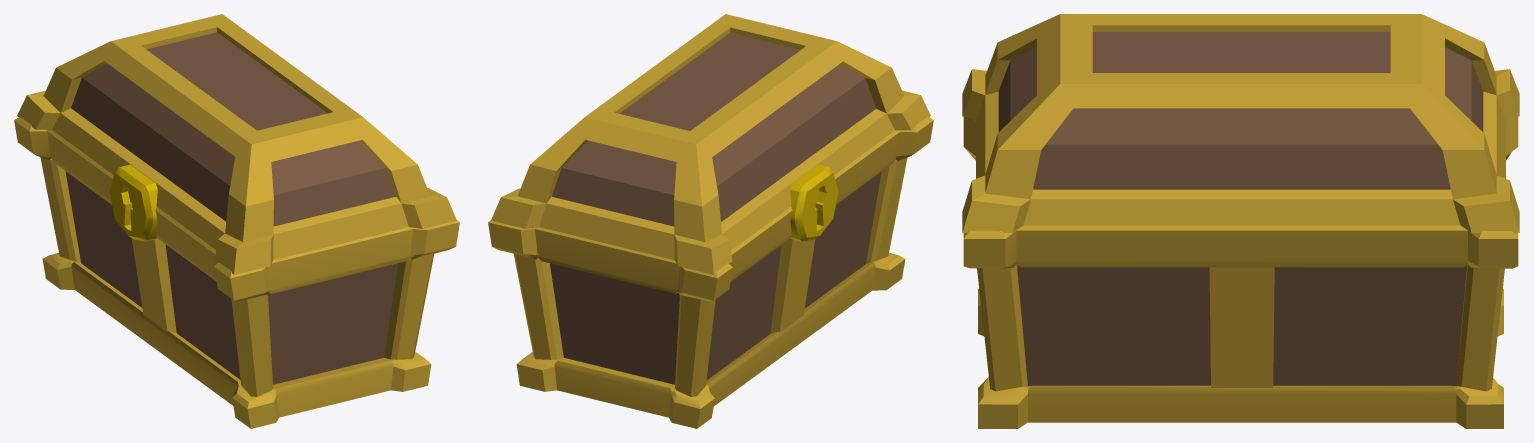
The model's file is ClosedChest.fbx.
3 renders of one model, left to right at view 1: azimuth 30°, elevation 25°; view 2: azimuth 150°, elevation 25°; view 3: azimuth 270°, elevation 25°, orthographic. The views are drawn at different scales.
Visible parts, largest first — view 1: Frame, LidFrame, LidSides, Sides1, Lock; view 2: Frame, LidFrame, LidSides, Sides1, Lock; view 3: LidFrame, Frame, LidSides, Sides1.
Part boxes in pixels (box(x1,y1,x2,y2)): Frame: box(14, 117, 459, 428); LidFrame: box(17, 14, 456, 274); LidSides: box(71, 32, 395, 226); Sides1: box(65, 171, 397, 384); Lock: box(109, 164, 157, 241); Frame: box(488, 116, 933, 428); LidFrame: box(491, 14, 930, 274); LidSides: box(552, 32, 875, 226); Sides1: box(550, 172, 881, 384); Lock: box(790, 164, 838, 241); LidFrame: box(962, 14, 1519, 232); Frame: box(963, 117, 1518, 428); LidSides: box(998, 32, 1483, 189); Sides1: box(1017, 265, 1467, 385).
Size of the model in its own units: 44.02 by 46.39 by 72.14.
